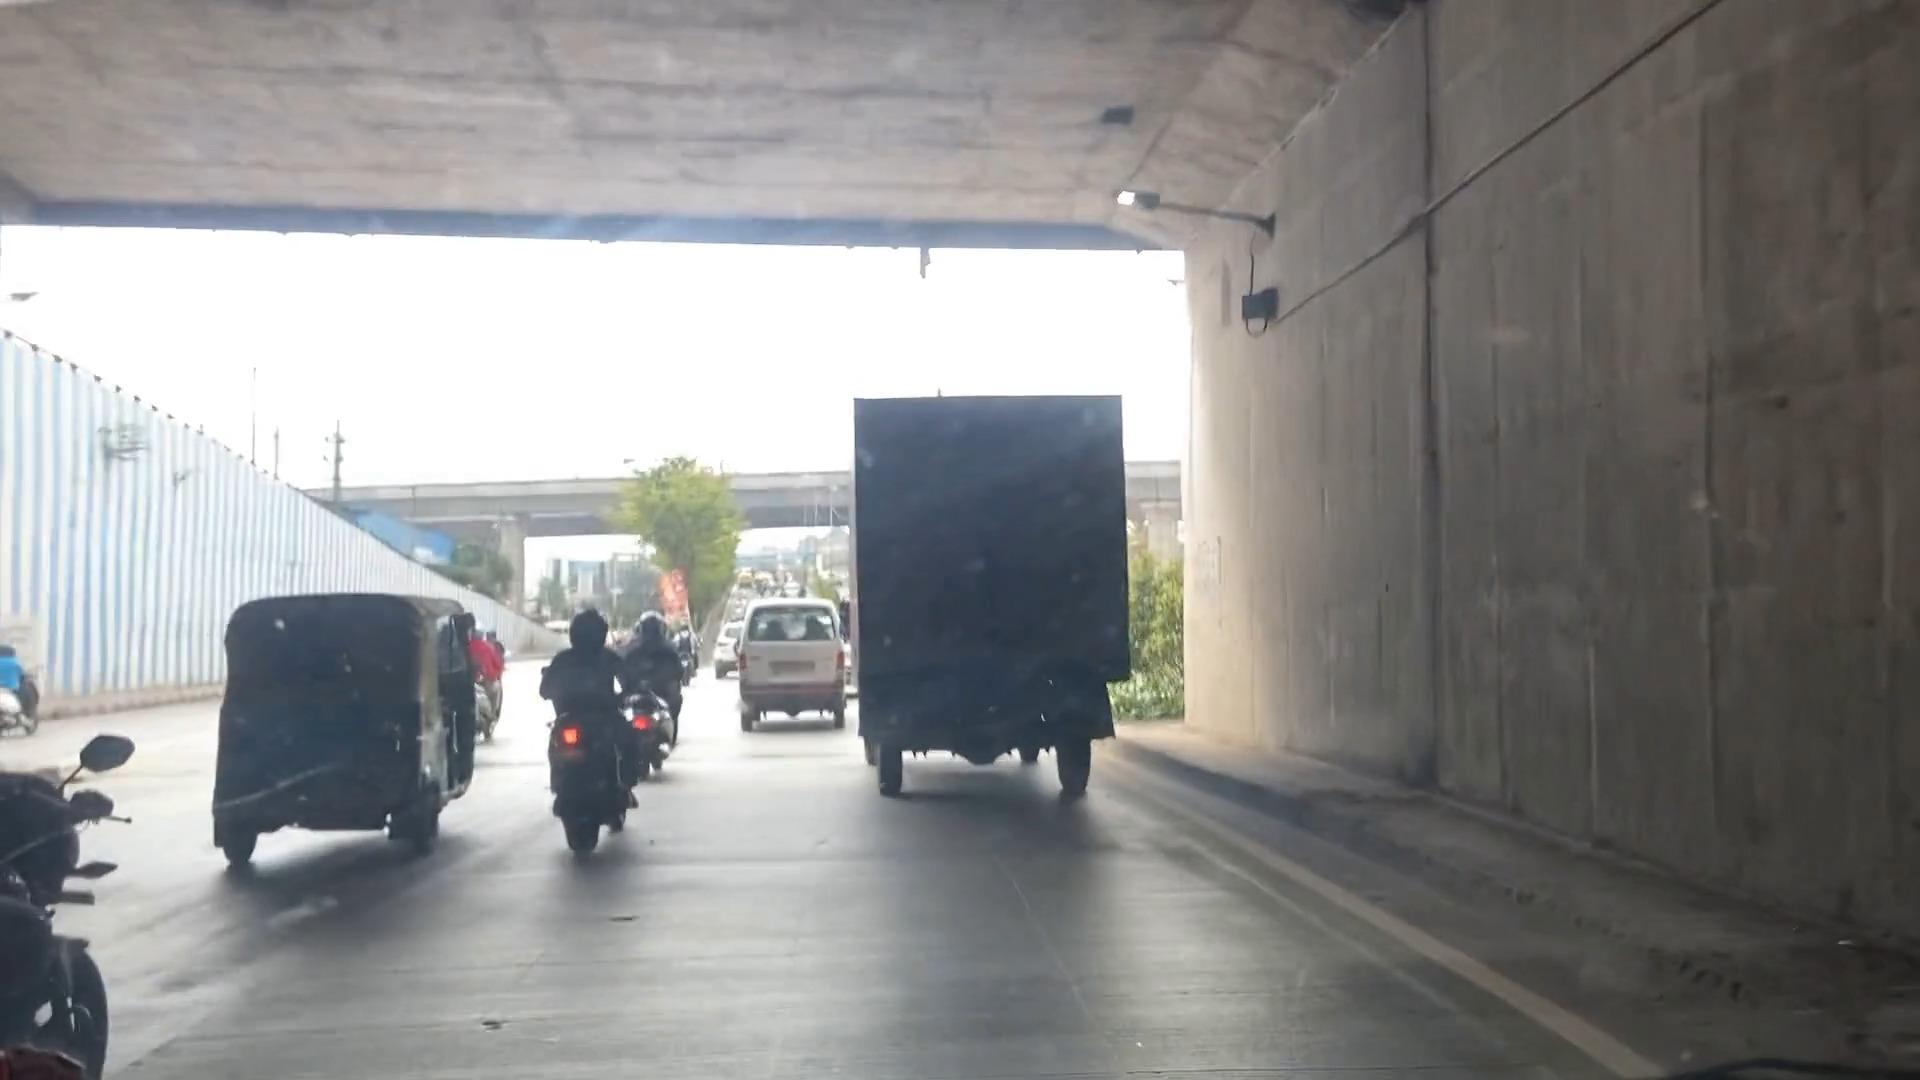HMV: (860, 393, 1123, 788)
LMV: (217, 600, 451, 842), (550, 623, 624, 879), (740, 593, 833, 734)
